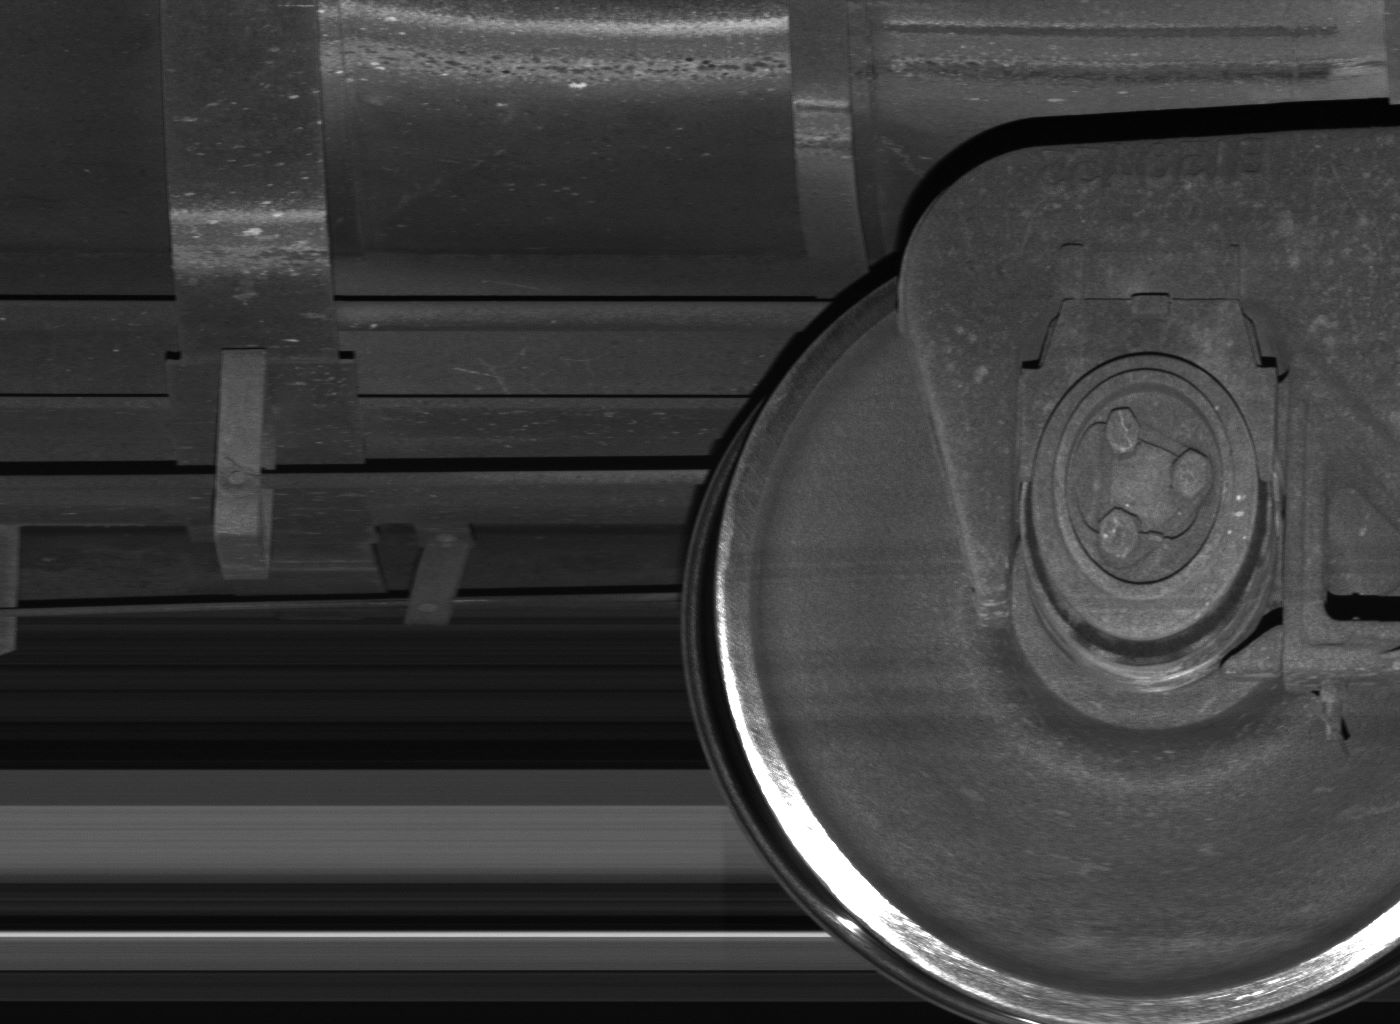normal: (214, 347, 277, 584)
